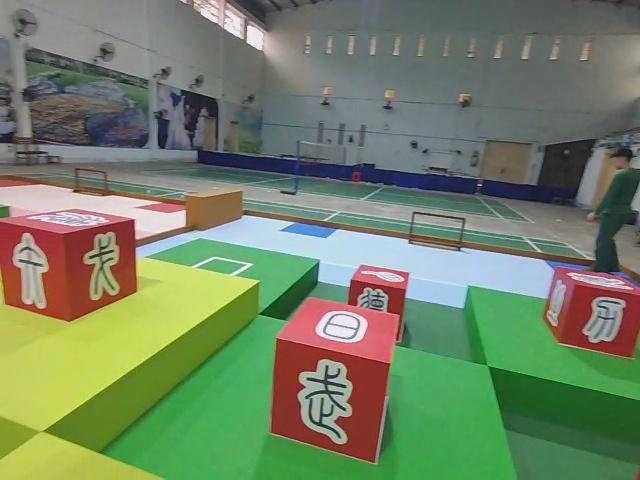R2 Fake: (267, 293, 402, 467), (0, 205, 139, 324), (540, 263, 640, 361), (346, 263, 410, 343)
